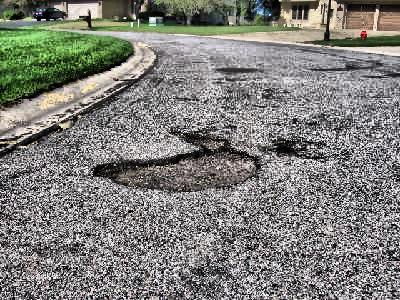pothole: (91, 146, 262, 192)
